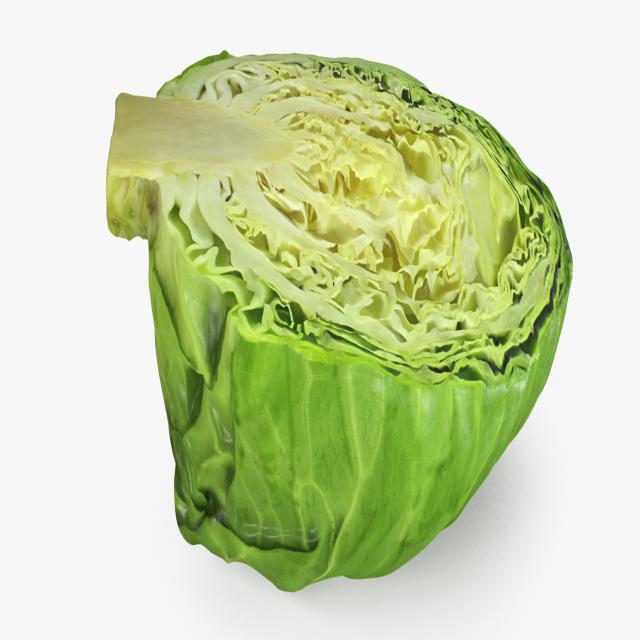haft-cabbage: (105, 43, 575, 596)
